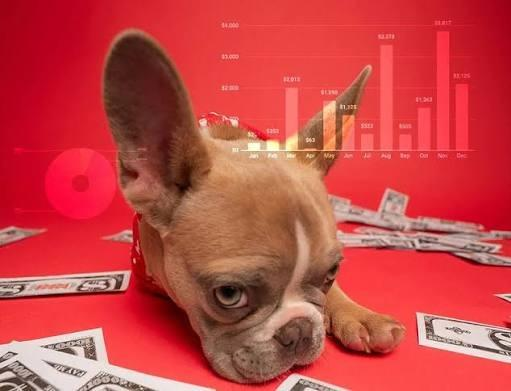puppy-dog: (99, 28, 408, 385)
